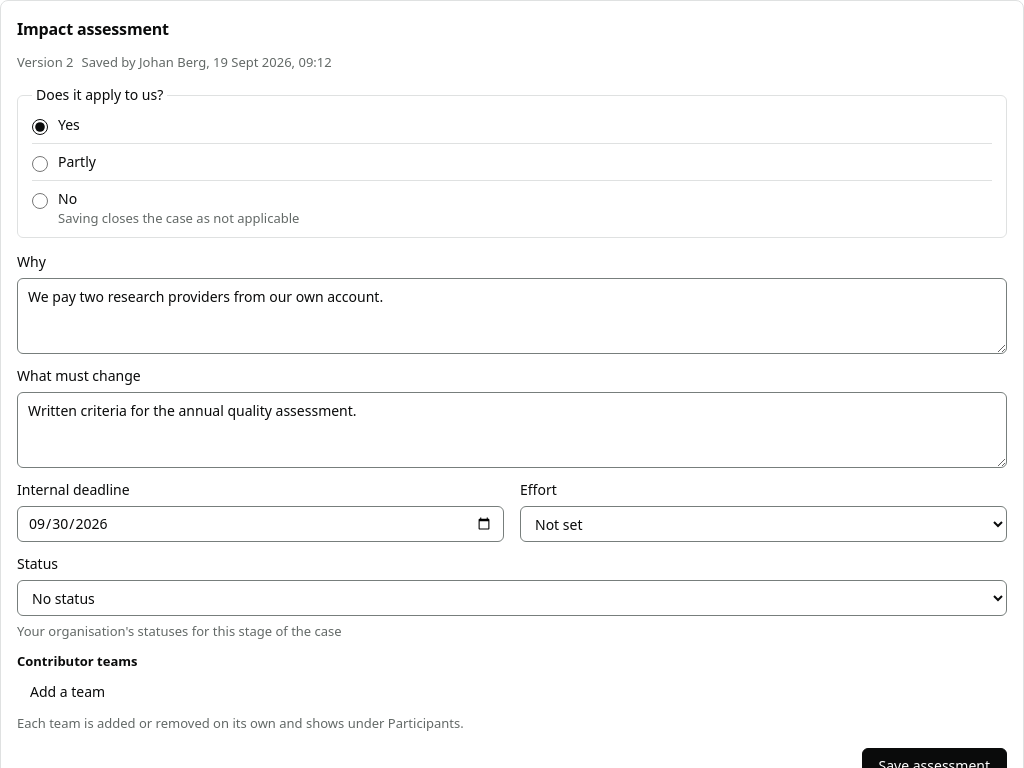
the assessment form › renders a 422 against the field it names
The width and height of the screenshot is (1024, 768).
Clear the text box labelled "Why" at coordinates (512, 316), box [17,278,1007,354]
(page scrolled)
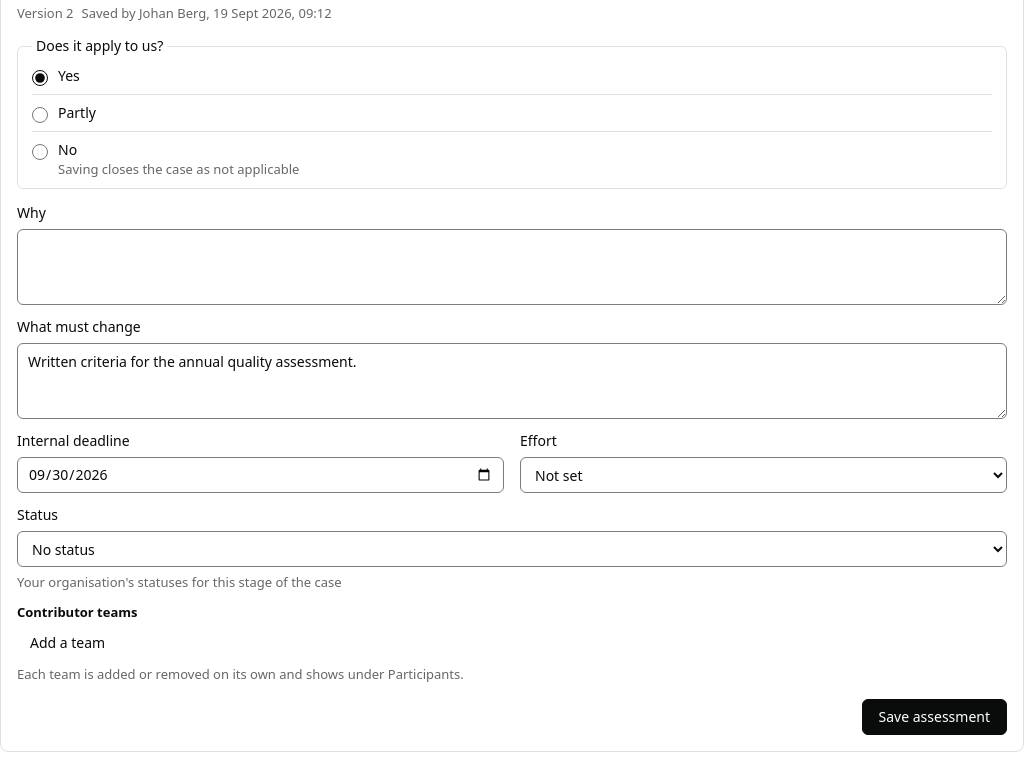
Click the button "Save assessment" at coordinates (934, 717), box [862,699,1007,735]
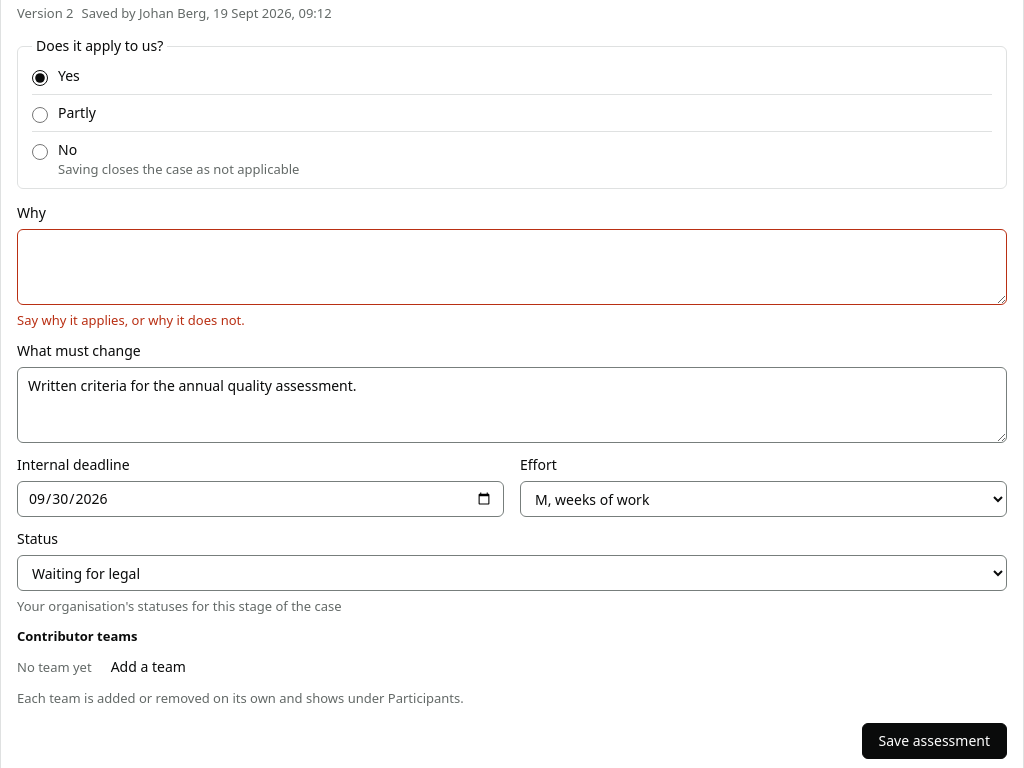
Now the text "Say why it applies, or why it does not." is shown, box [17,311,245,329]
